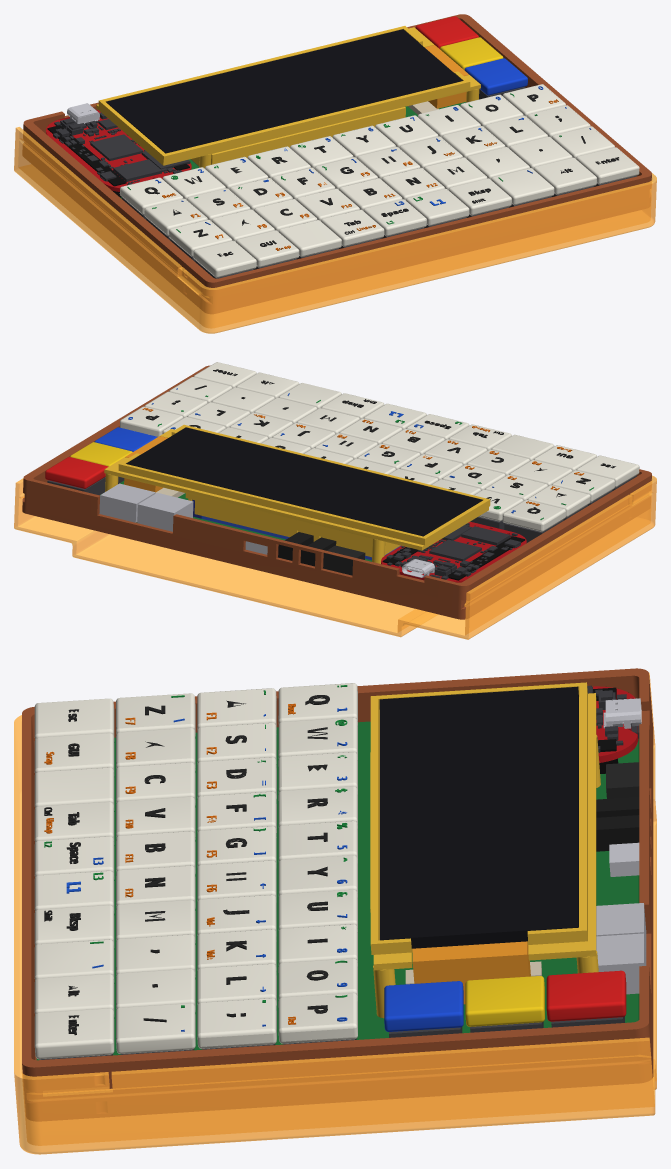
The model's file is cradle_sienna.glb.
3 views of the same model, one above another, from view 1: azimuth 30°, elevation 25°; view 2: azimuth 150°, elevation 25°; view 3: azimuth 270°, elevation 25° (orthographic). The views are drawn at different scales.
Visible parts, largest first — view 1: Internals, Lid, Tray; view 2: Internals, Lid, Tray; view 3: Internals, Lid, Tray.
Part boxes in pixels (box(x1,y1,x2,y2)): Internals: box(46, 16, 639, 278); Lid: box(14, 127, 656, 333); Tray: box(23, 14, 651, 313); Internals: box(45, 362, 639, 582); Lid: box(14, 475, 656, 639); Tray: box(22, 365, 651, 619); Internals: box(34, 682, 646, 1060); Lid: box(14, 672, 656, 1154); Tray: box(22, 668, 653, 1120).
Bounding box in the file's own units: 0.1818 × 0.0365 × 0.1342.
